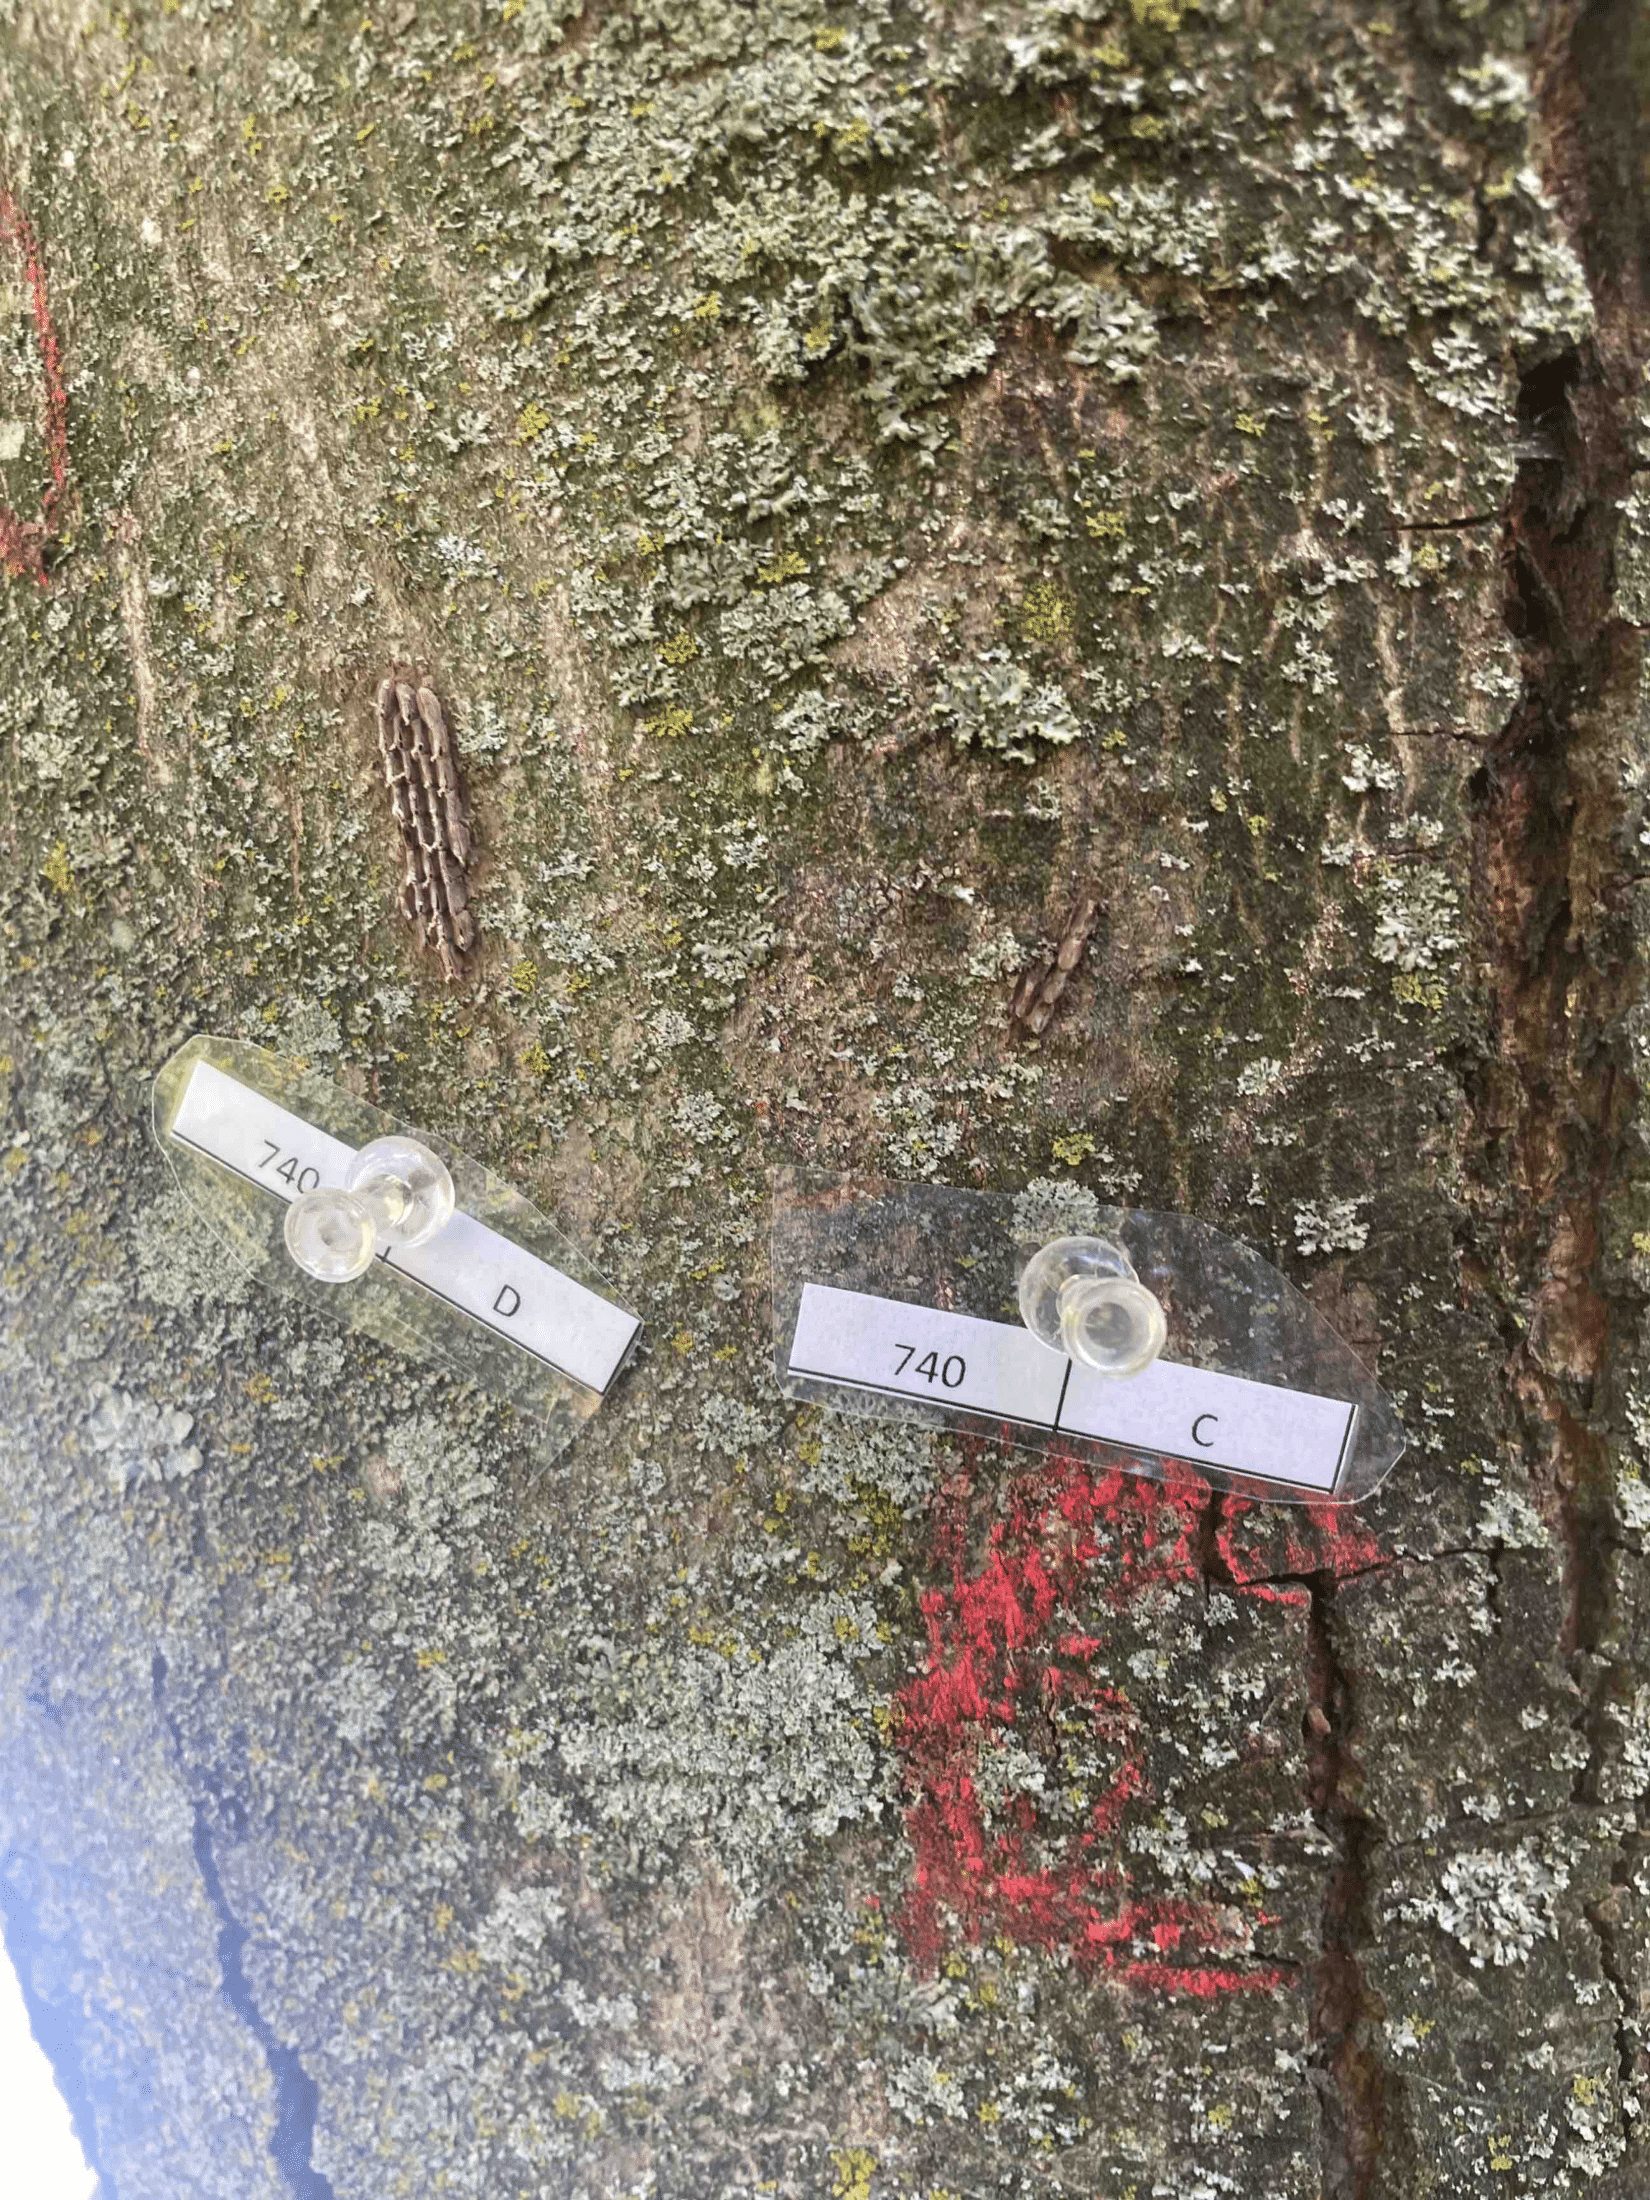egg masses: (309, 625, 568, 1013), (983, 851, 1149, 1062)
